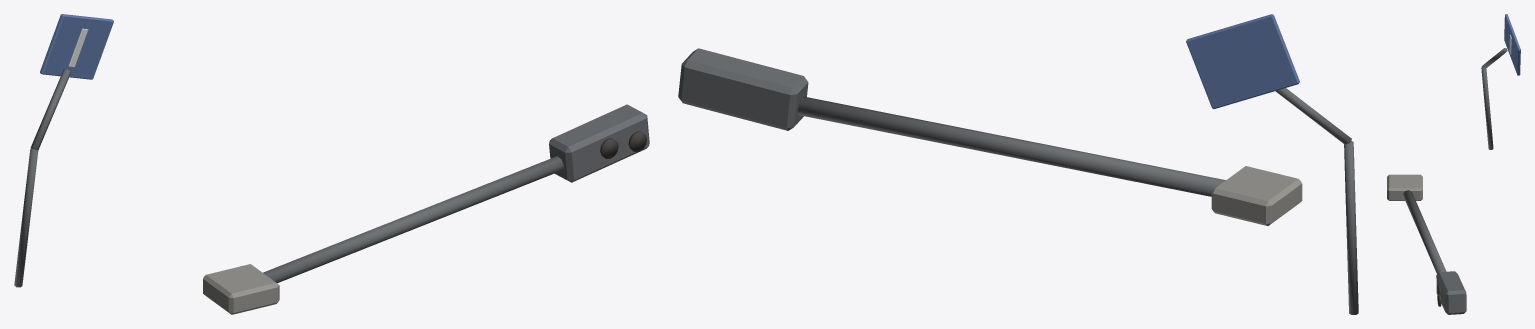
File: v_fallen_signal.glb
3 renders of one model, left to right at view 1: azimuth 30°, elevation 25°; view 2: azimuth 150°, elevation 25°; view 3: azimuth 270°, elevation 25°, orthographic. The views are drawn at different scales.
Visible parts, largest first — view 1: Fallen_signal; view 2: Fallen_signal; view 3: Fallen_signal.
Boxes of the visible parts, x1,y1,x2,y2 form: Fallen_signal: (14,14,649,314); Fallen_signal: (678,14,1358,314); Fallen_signal: (1387,14,1520,314).
Size of what is drawn, in the model's own units: 5.9 by 2.34 by 1.87.
